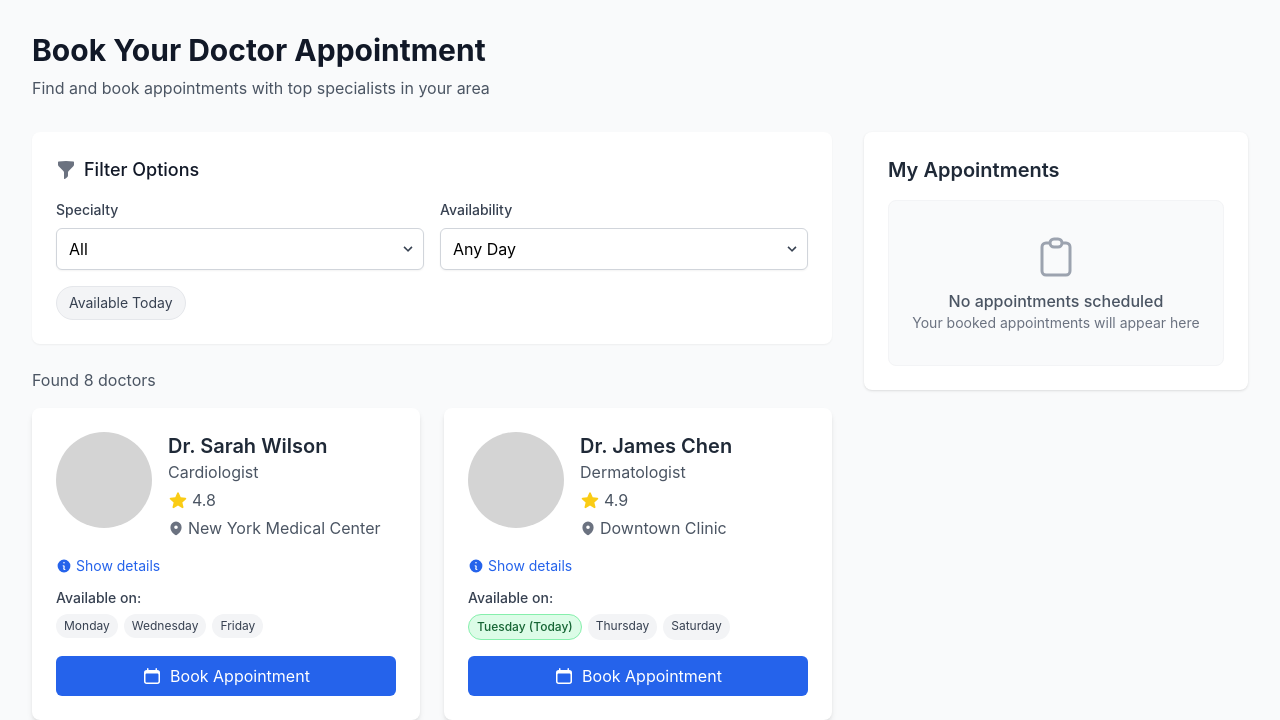
Scenario: App › filters doctors by availability with Today filter
The image size is (1280, 720).
Click the button "Available Today": (121, 303) [56,286,186,320]
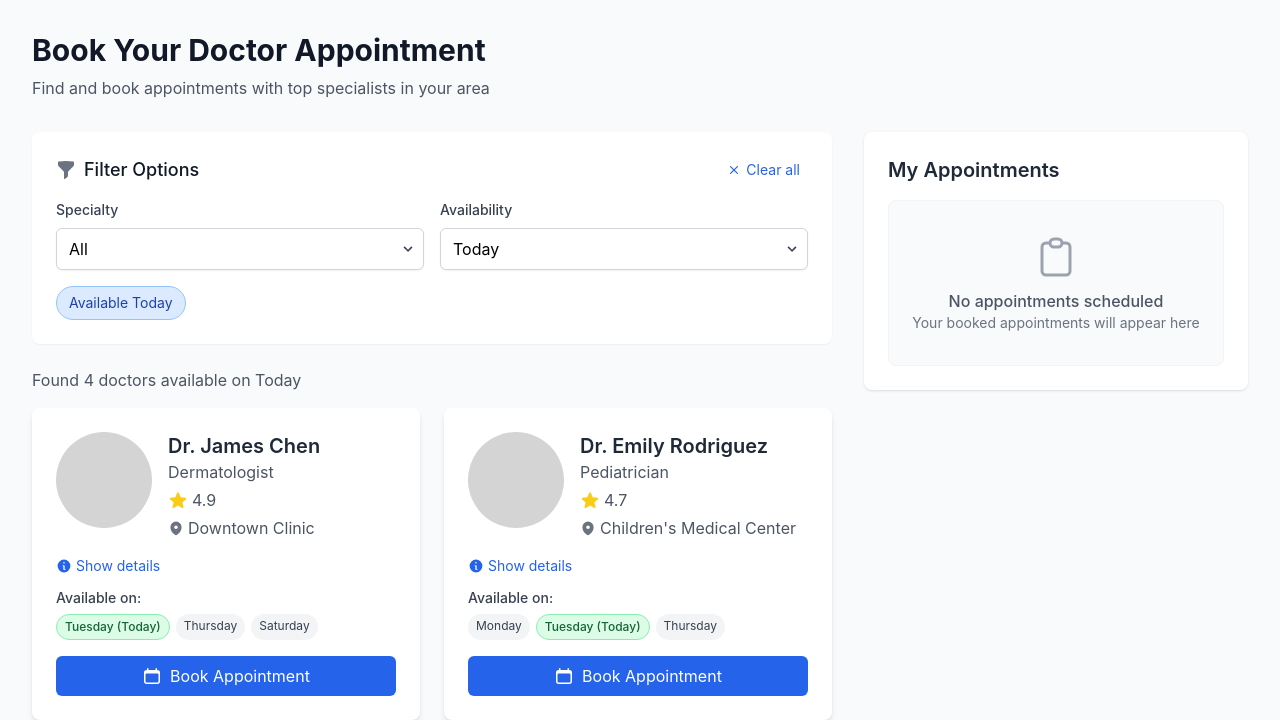
Result: the text "Found 4 doctors available on Today" is shown at [32,370,301,390]
